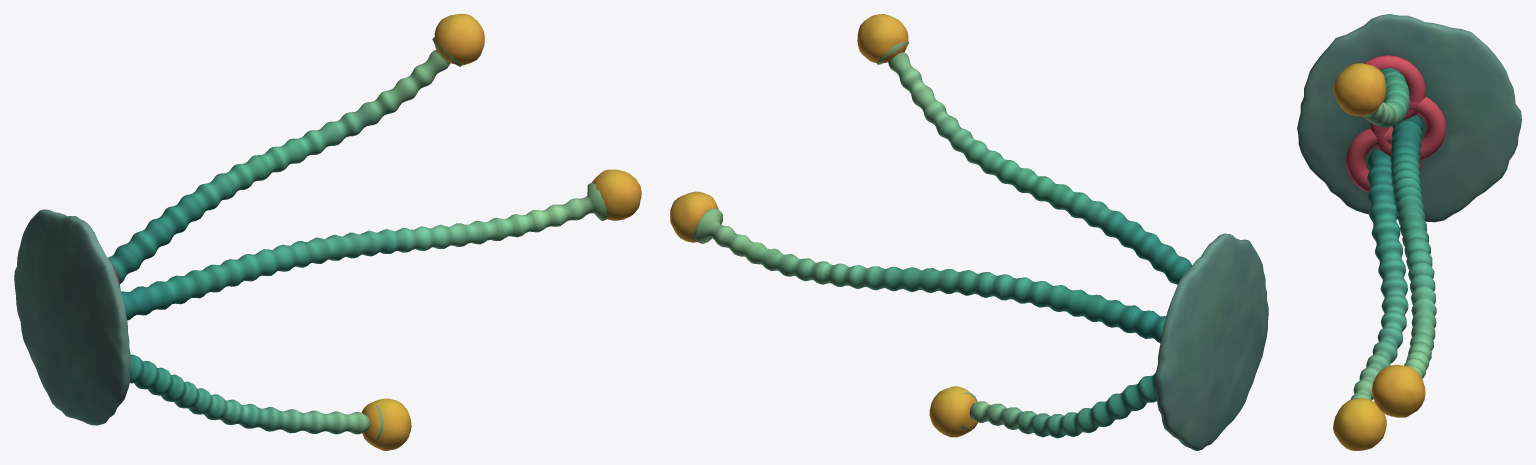
The model's file is pilus.glb.
The picture shows the model from 3 angles, left to right: view 1: azimuth 30°, elevation 25°; view 2: azimuth 150°, elevation 25°; view 3: azimuth 270°, elevation 25°; orthographic projection. The views are drawn at different scales.
Visible parts, largest first — view 1: pilus-shafts, pilus-base, pilus-tips; view 2: pilus-shafts, pilus-base, pilus-tips; view 3: pilus-base, pilus-shafts, pilus-tips.
Boxes of the visible parts, x1=… form: pilus-shafts: x1=108, y1=37, x2=607, y2=442; pilus-base: x1=14, y1=209, x2=130, y2=425; pilus-tips: x1=361, y1=14, x2=641, y2=450; pilus-shafts: x1=693, y1=41, x2=1191, y2=438; pilus-base: x1=1155, y1=233, x2=1268, y2=450; pilus-tips: x1=670, y1=14, x2=977, y2=437; pilus-base: x1=1297, y1=14, x2=1521, y2=222; pilus-shafts: x1=1348, y1=68, x2=1436, y2=400; pilus-tips: x1=1333, y1=63, x2=1425, y2=450.
Size of what is drawn, in the model's own units: 3.31 by 2.29 by 1.11.
